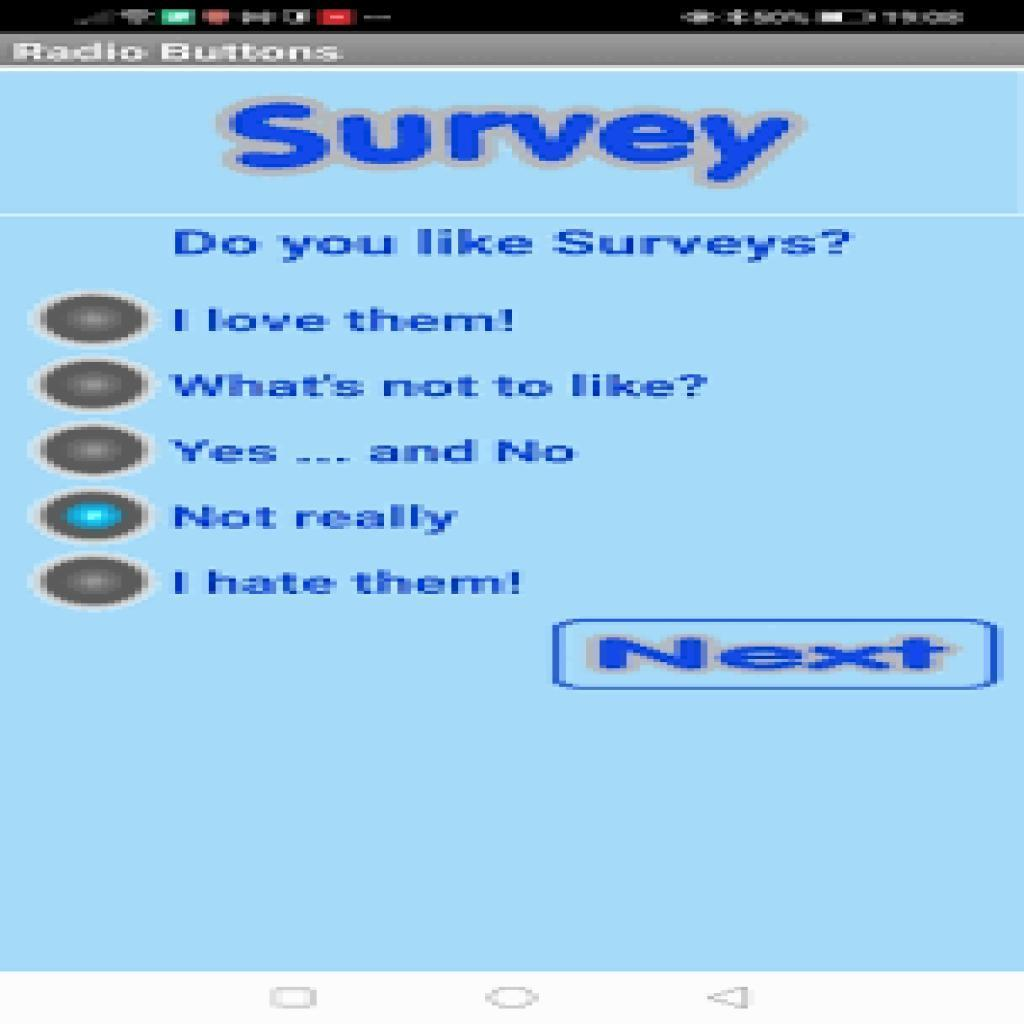button: (557, 620, 997, 687)
radio: (33, 551, 158, 614), (31, 424, 158, 480), (34, 485, 154, 544), (36, 290, 151, 350), (38, 357, 156, 413)
